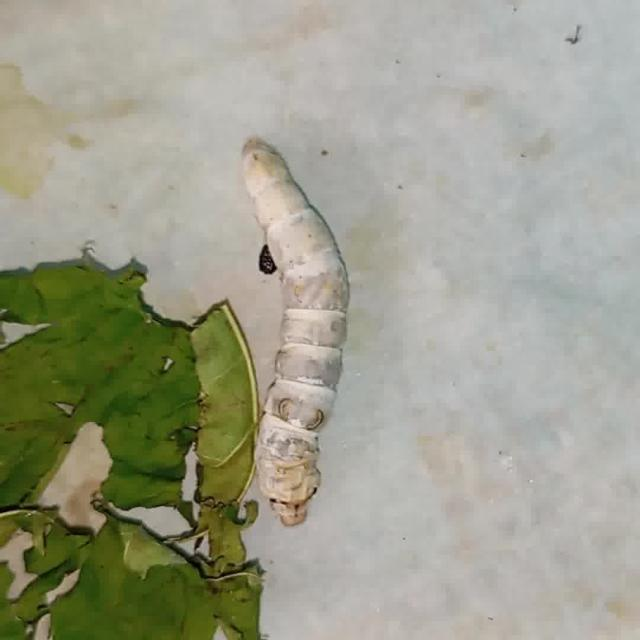Grasserie: (211, 100, 456, 550)
